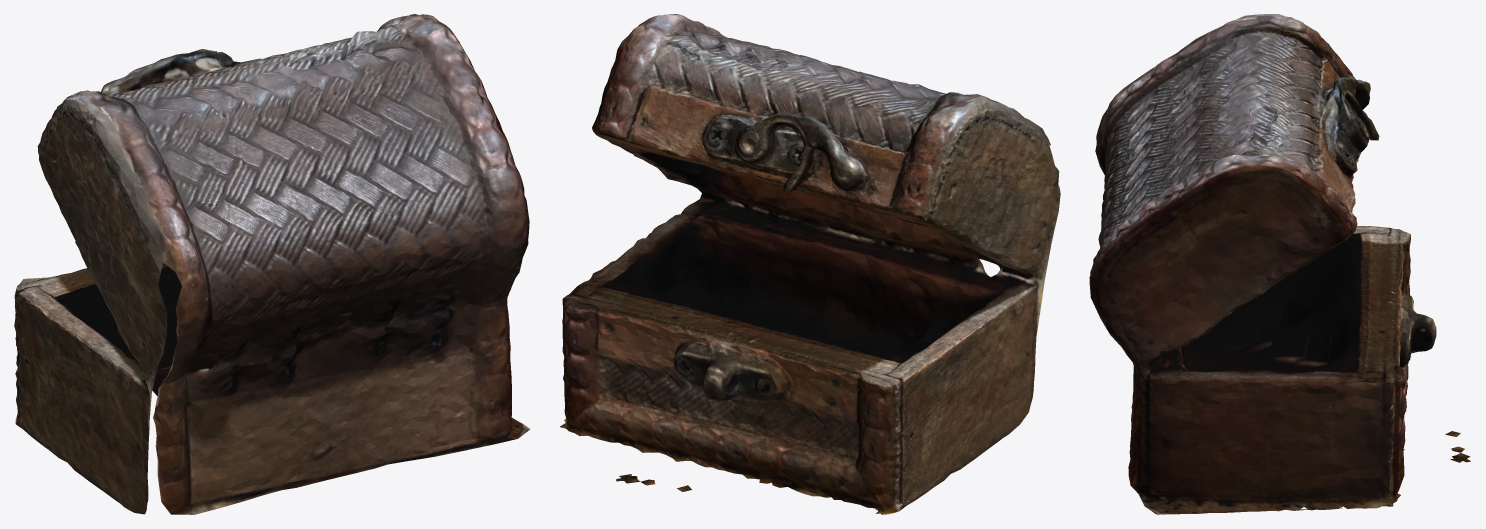
The model's file is tesoro.glb.
The picture shows the model from 3 angles, left to right: view 1: azimuth 30°, elevation 25°; view 2: azimuth 150°, elevation 25°; view 3: azimuth 270°, elevation 25°; orthographic projection. The views are drawn at different scales.
Size of the model in its own units: 0.0992 by 0.0909 by 0.093.
Materials: 1 (1 with a texture image).
